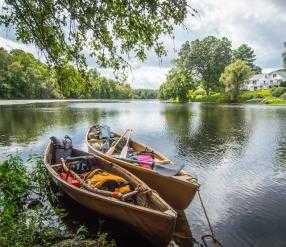kayak: (43, 136, 177, 242), (85, 124, 200, 211)
